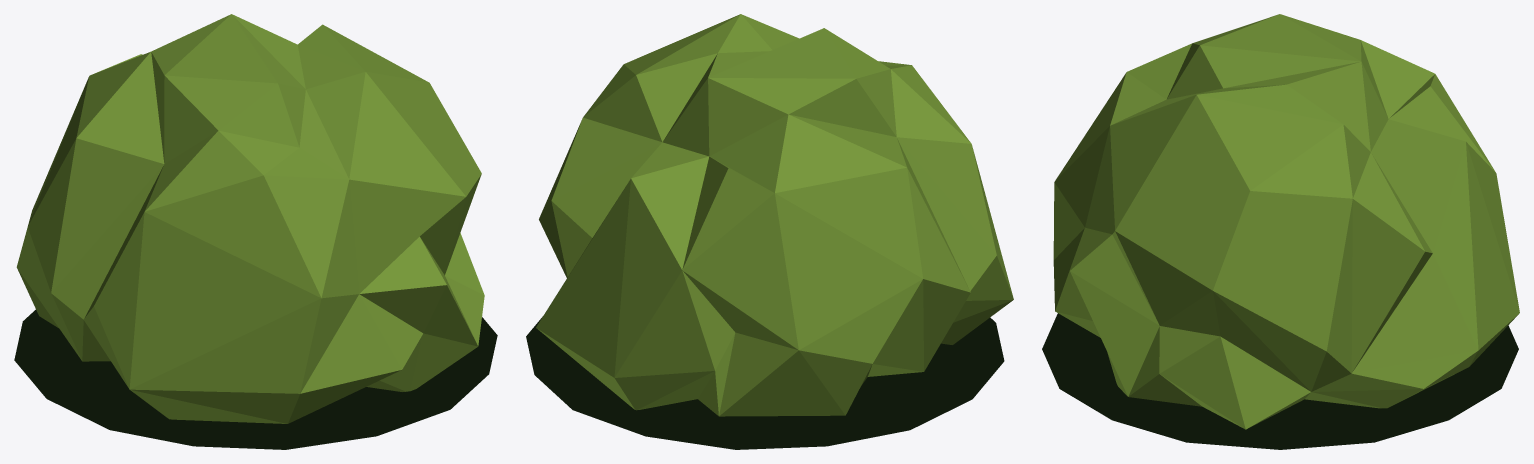
Rendered from Krzak3.fbx.
The picture shows the model from 3 angles, left to right: view 1: azimuth 30°, elevation 25°; view 2: azimuth 150°, elevation 25°; view 3: azimuth 270°, elevation 25°; orthographic projection.
Parts seen in each view (by area): view 1: Krzak2; view 2: Krzak2; view 3: Krzak2.
Boxes of the visible parts, x1=… form: Krzak2: x1=14, y1=14, x2=497, y2=449; Krzak2: x1=526, y1=14, x2=1013, y2=449; Krzak2: x1=1042, y1=14, x2=1519, y2=449.
Size of the model in its own units: 22096 by 15228 by 22141.
